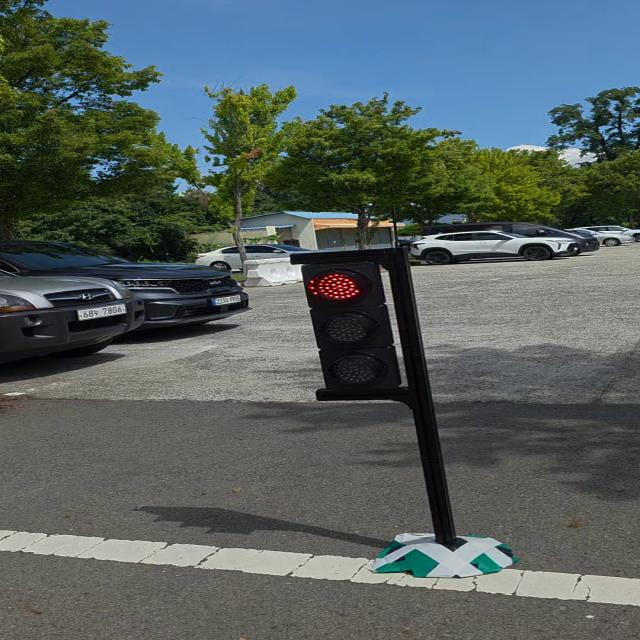red: (277, 245, 448, 410)
